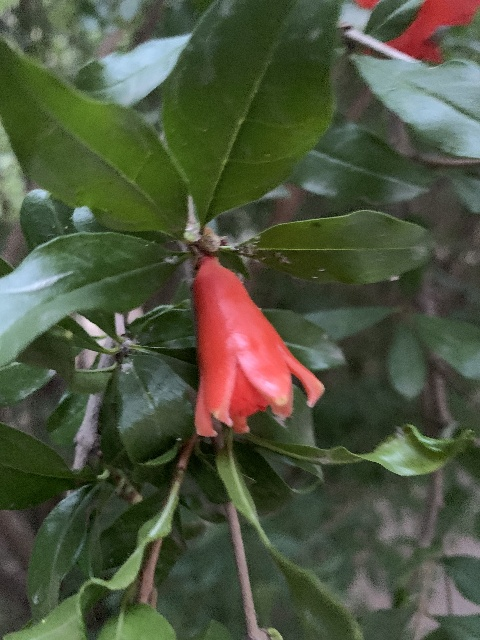flower: (191, 256, 323, 436)
